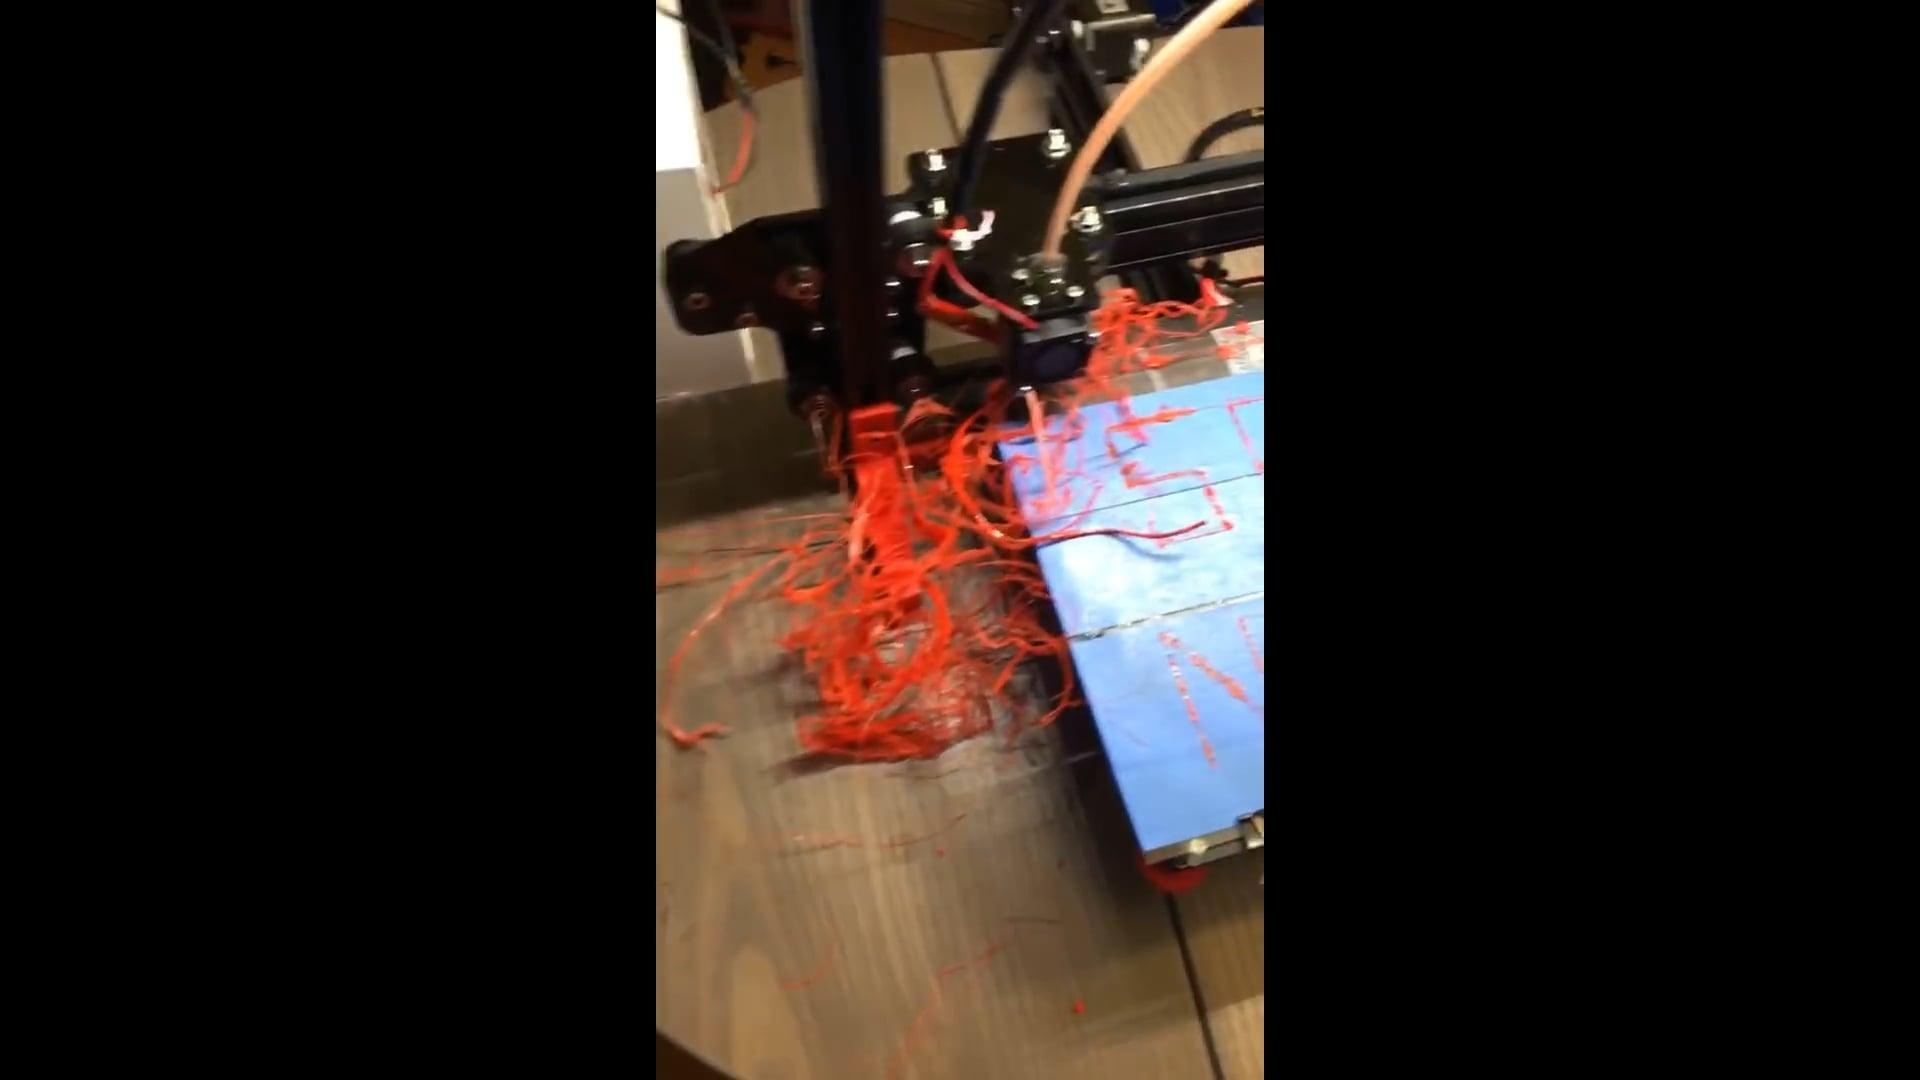Printing-Artifact: (781, 381, 1044, 761)
